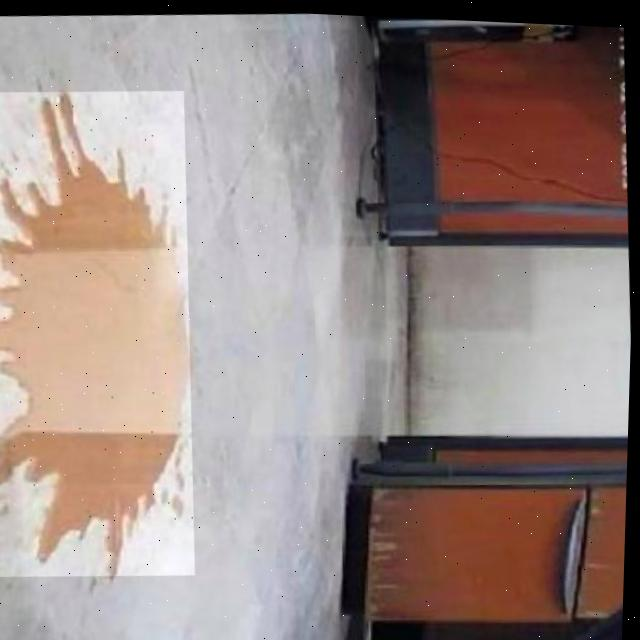spillage: (0, 92, 191, 574)
